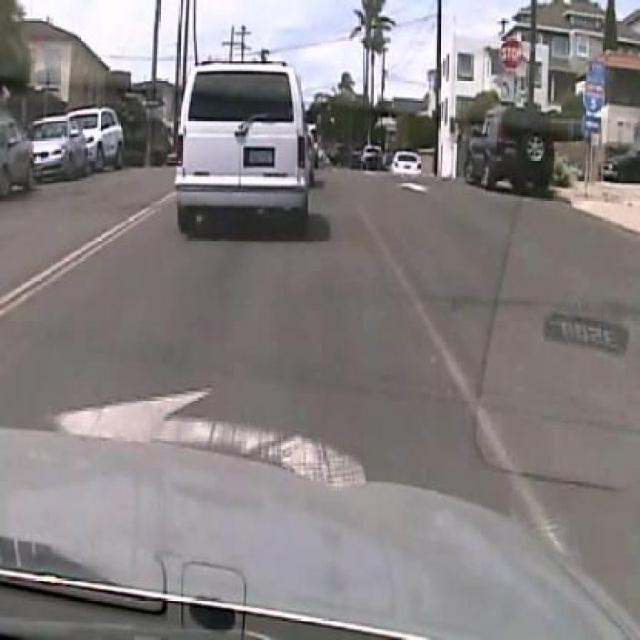Stop: (499, 35, 523, 71)
